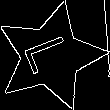L_E: (20, 33, 81, 80)
